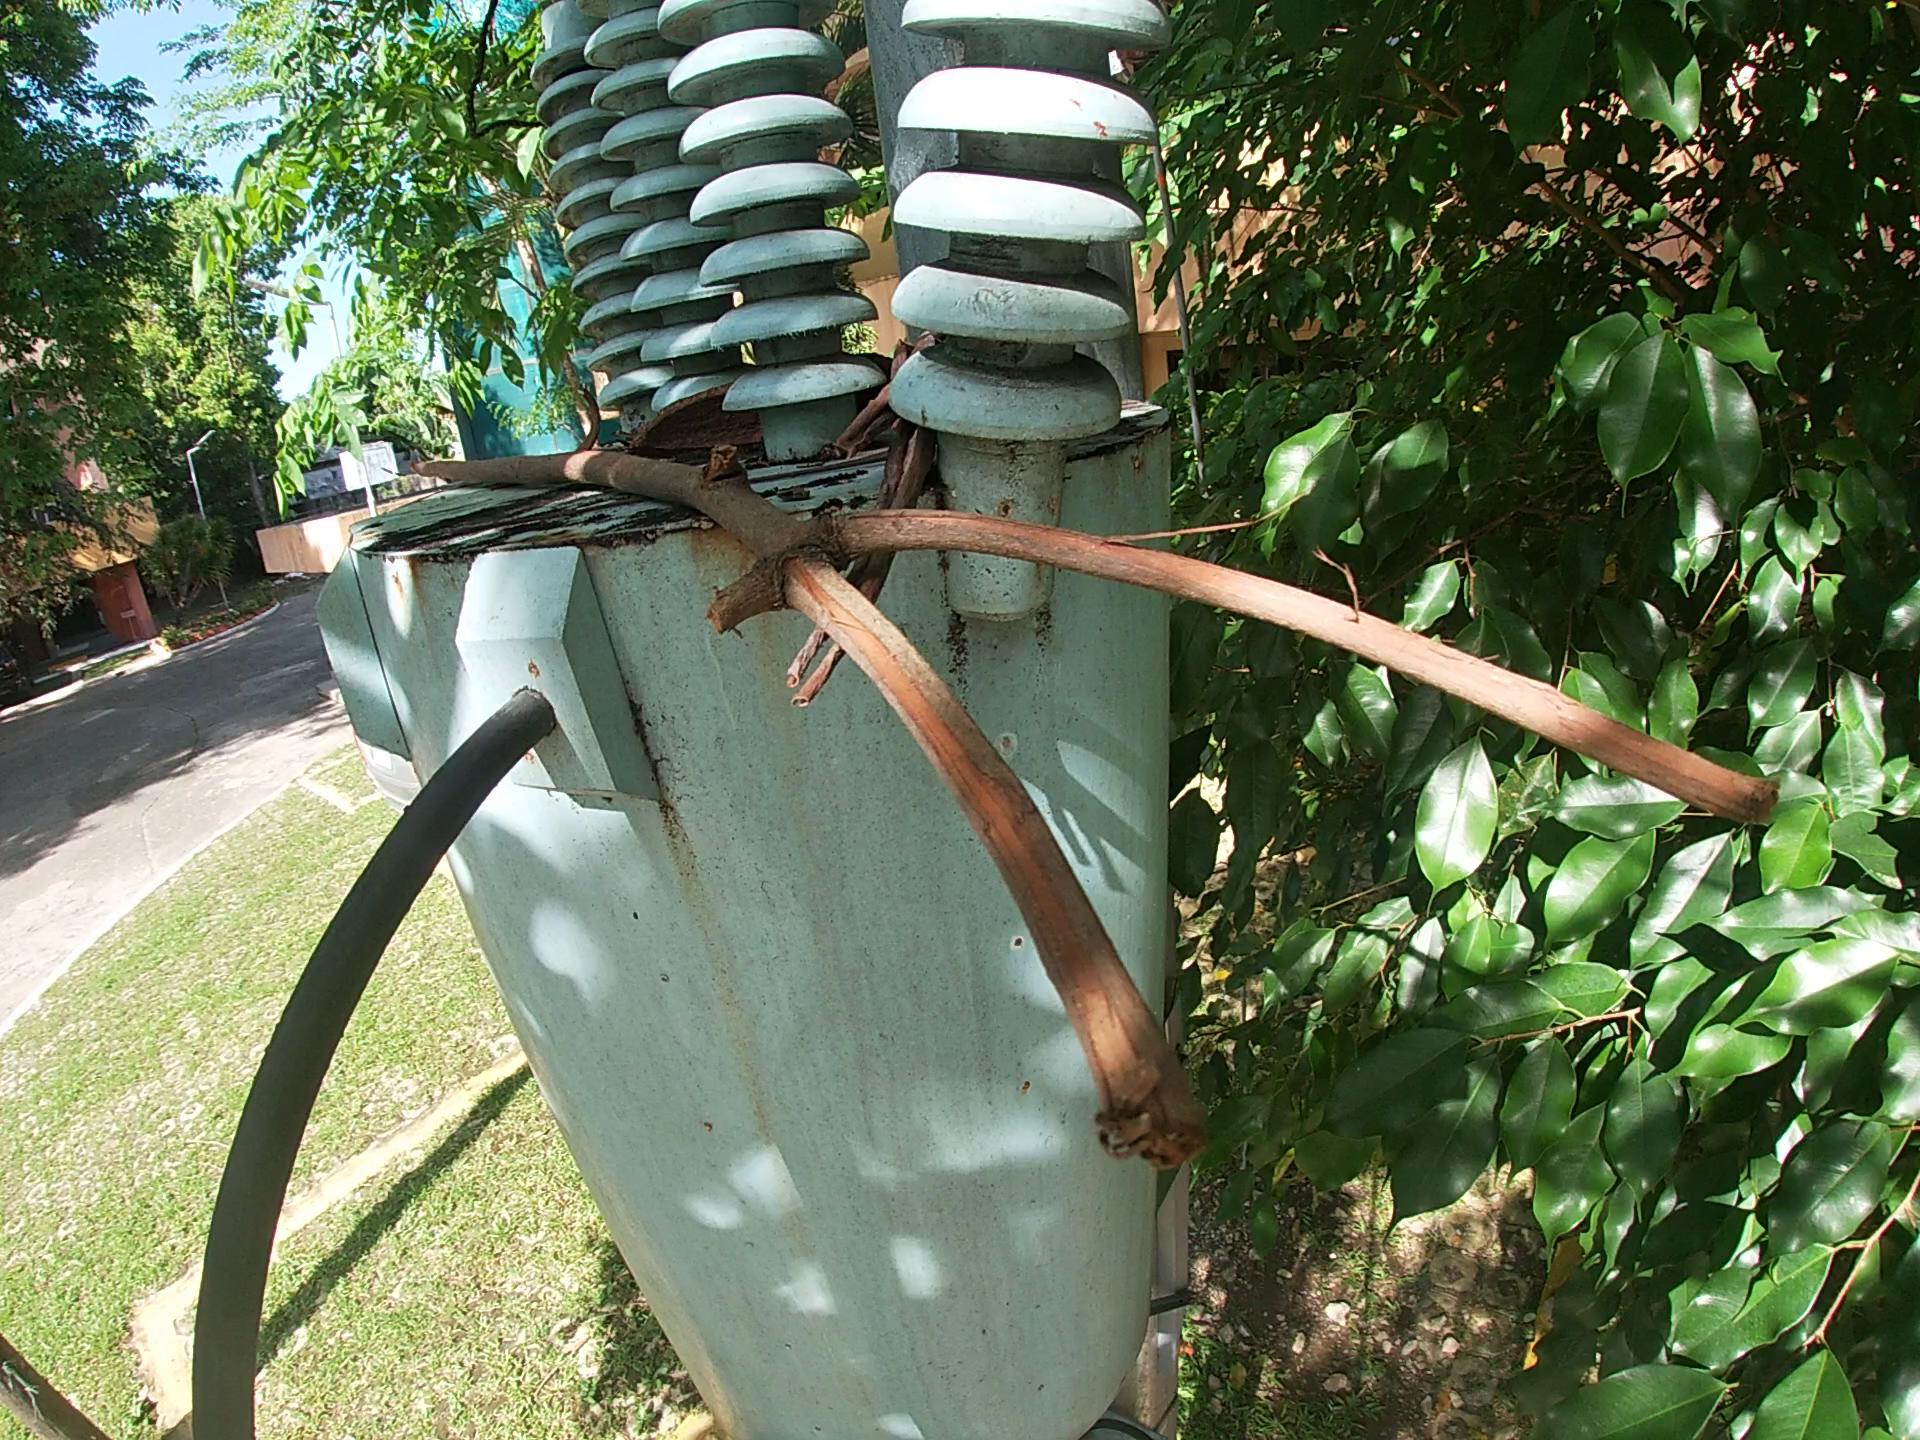mahogany fruit: (624, 384, 748, 464), (561, 384, 611, 446), (862, 352, 900, 386)
tree branch: (399, 458, 1808, 1192), (770, 337, 937, 717)
